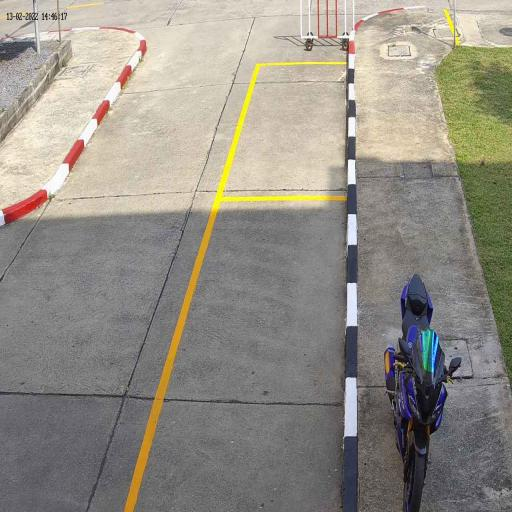motorcycle: (382, 280, 458, 512)
